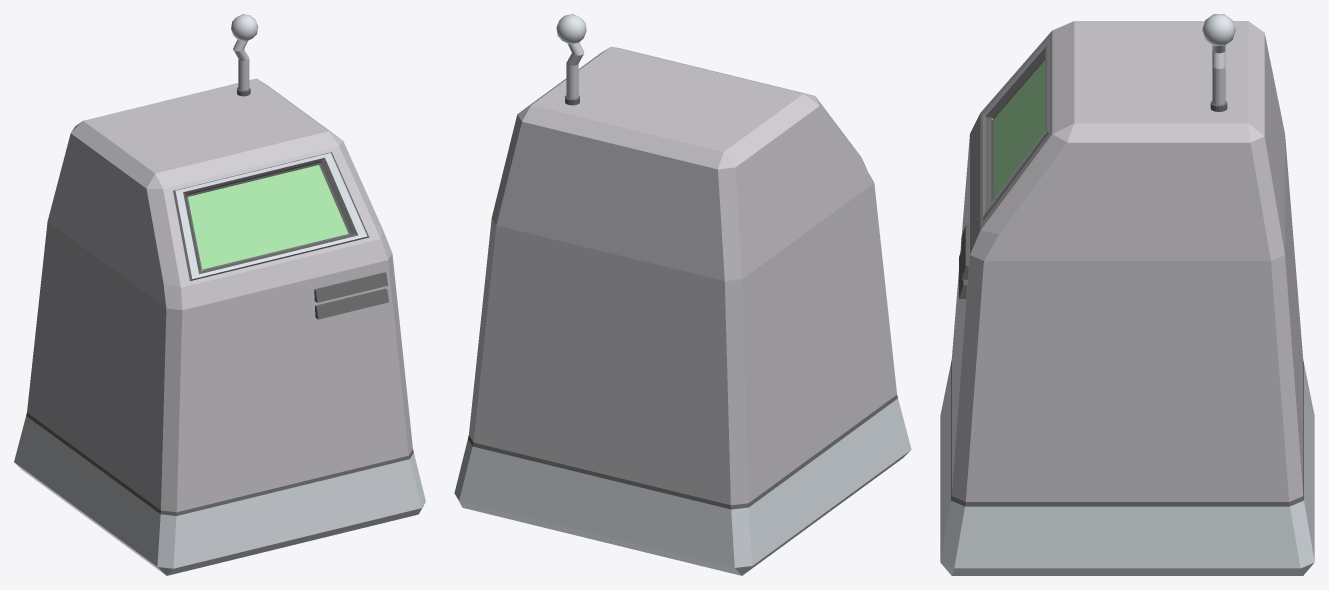
The model's file is bot.fbx.
3 renders of one model, left to right at view 1: azimuth 30°, elevation 25°; view 2: azimuth 150°, elevation 25°; view 3: azimuth 270°, elevation 25°, orthographic. The views are drawn at different scales.
Visible parts, largest first — view 1: Bot; view 2: Bot; view 3: Bot.
Boxes of the visible parts, x1,y1,x2,y2 form: Bot: (14,14,425,575); Bot: (454,14,911,575); Bot: (940,14,1314,575).
Bounding box in the file's own units: 82.85 × 82.85 × 128.
